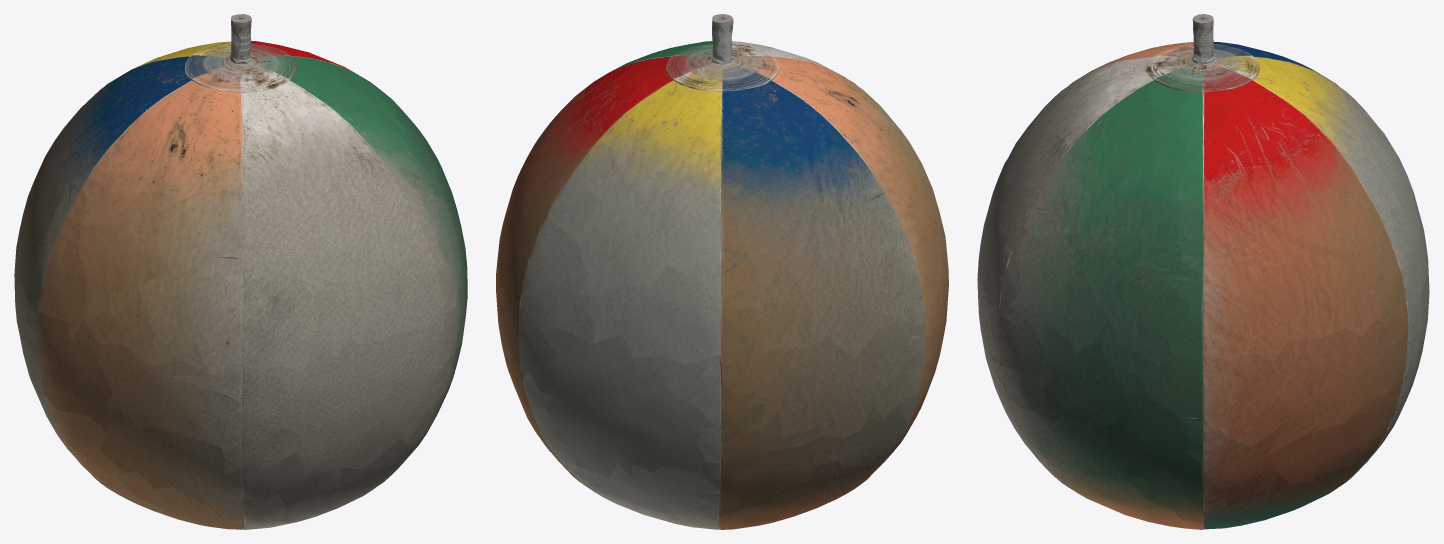
The model's file is pallone_spiaggia_meshy.glb.
The picture shows the model from 3 angles, left to right: view 1: azimuth 30°, elevation 25°; view 2: azimuth 150°, elevation 25°; view 3: azimuth 270°, elevation 25°; orthographic projection.
Visible parts, largest first — view 1: Mesh_0; view 2: Mesh_0; view 3: Mesh_0.
Part boxes in pixels (x1=…): Mesh_0: x1=14, y1=14, x2=467, y2=529; Mesh_0: x1=496, y1=14, x2=948, y2=529; Mesh_0: x1=977, y1=14, x2=1429, y2=529.
Size of the model in its own units: 1.66 by 1.9 by 1.6.
1 material, 1 textured.
